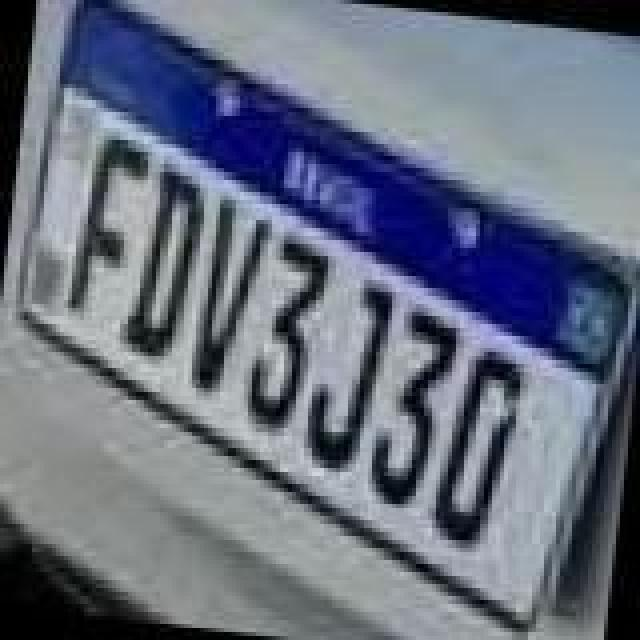3: (364, 304, 460, 512), (242, 232, 334, 432)
D: (426, 344, 526, 552), (120, 164, 208, 364)
F: (60, 132, 148, 316)
J: (296, 274, 392, 478)
V: (186, 192, 278, 400)
